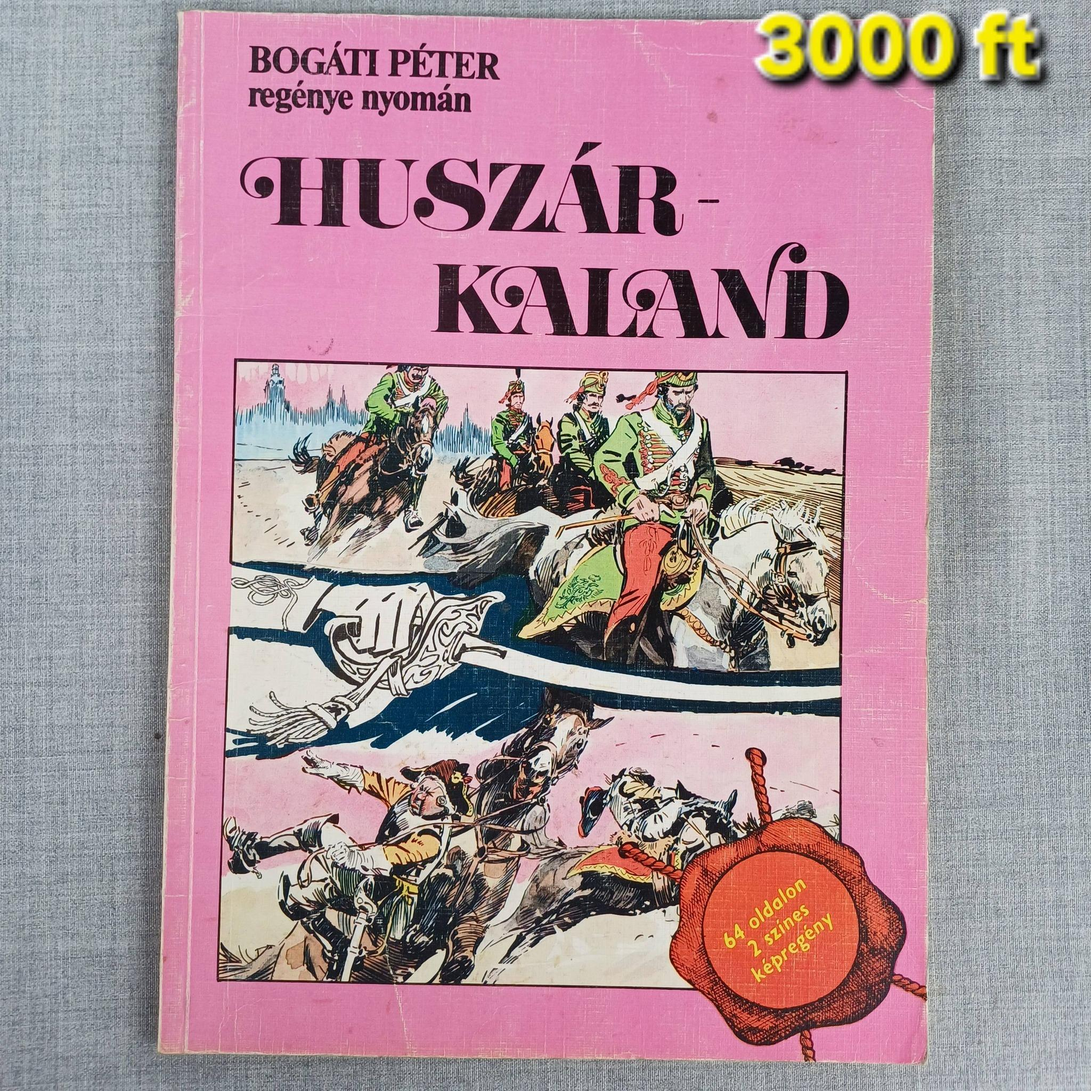comic: (161, 11, 941, 1063)
